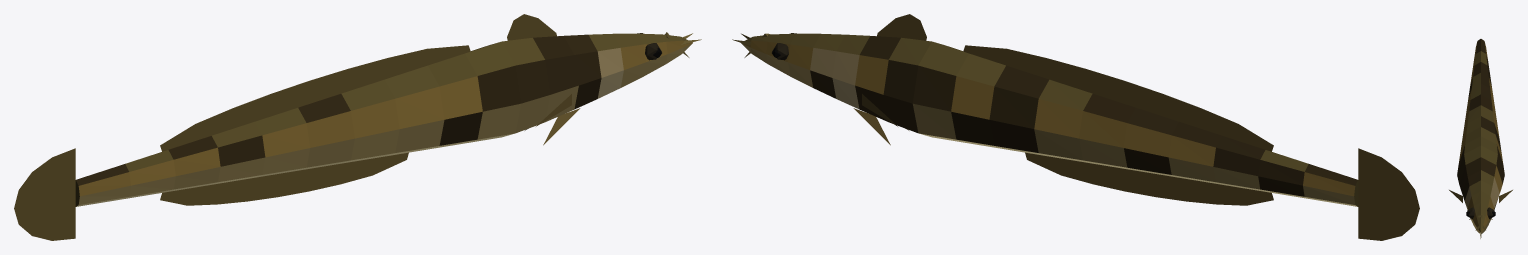
The model's file is burbot.glb.
The picture shows the model from 3 angles, left to right: view 1: azimuth 30°, elevation 25°; view 2: azimuth 150°, elevation 25°; view 3: azimuth 270°, elevation 25°; orthographic projection. The views are drawn at different scales.
Parts seen in each view (by area): view 1: burbot; view 2: burbot; view 3: burbot.
Part boxes in pixels (x1,y1,x2,y2): burbot: (14,14,701,240); burbot: (732,14,1419,240); burbot: (1449,39,1512,238).
Size of the model in its own units: 1.11 by 0.1965 by 0.1495.
